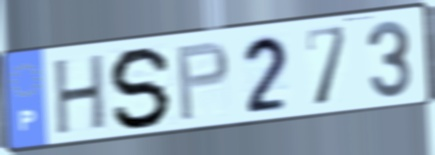2: (237, 29, 294, 119)
3: (364, 17, 413, 101)
7: (305, 22, 348, 108)
H: (53, 50, 108, 139)
P: (174, 38, 233, 124)
S: (107, 44, 176, 131)
